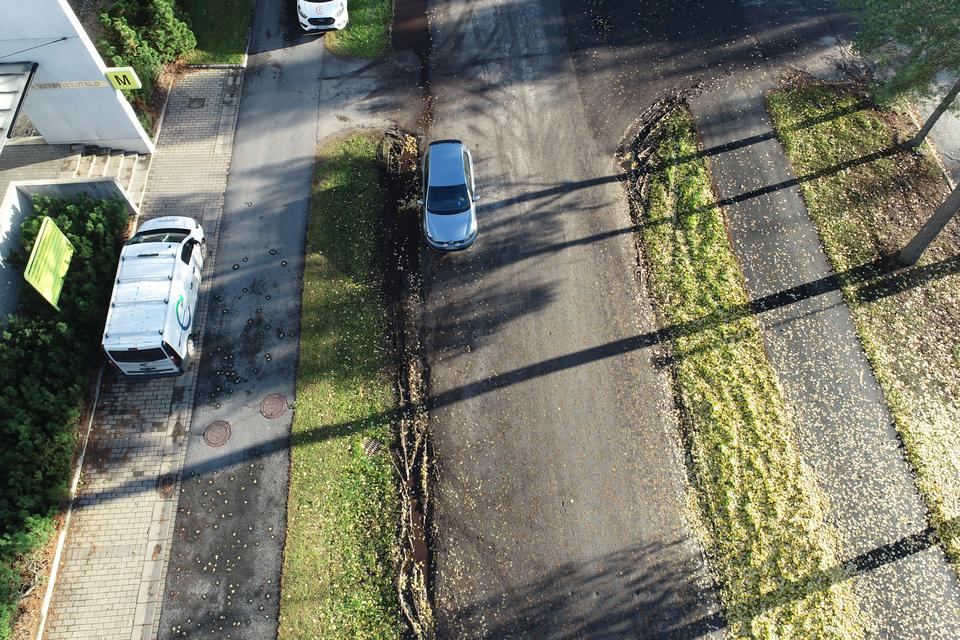intersection: (348, 0, 908, 202)
